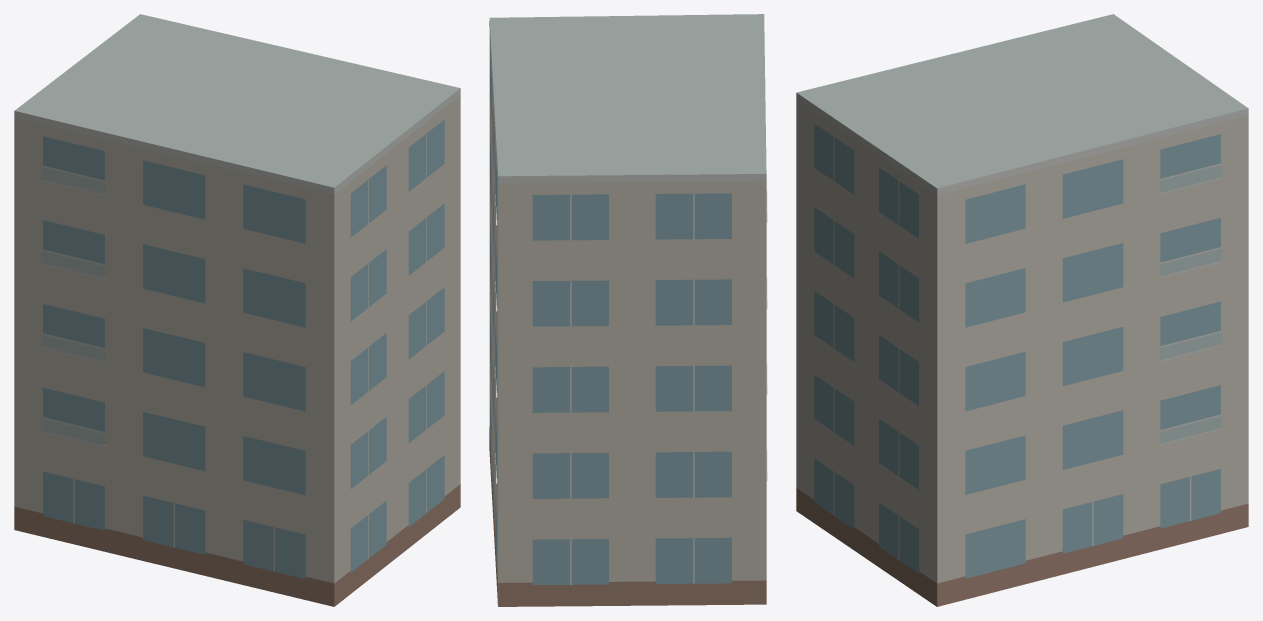
File: survey-upis-32712555.glb
3 views of the same model, side by side, from view 1: azimuth 30°, elevation 25°; view 2: azimuth 150°, elevation 25°; view 3: azimuth 270°, elevation 25° (orthographic). The views are drawn at different scales.
Parts seen in each view (by area): view 1: survey-upis-32712555.tmp; view 2: survey-upis-32712555.tmp; view 3: survey-upis-32712555.tmp.
Part boxes in pixels (box(x1,y1,x2,y2)): survey-upis-32712555.tmp: box(14, 14, 460, 606); survey-upis-32712555.tmp: box(489, 14, 767, 606); survey-upis-32712555.tmp: box(796, 14, 1248, 606).
Size of the model in its own units: 13.19 by 14.75 by 14.46.
